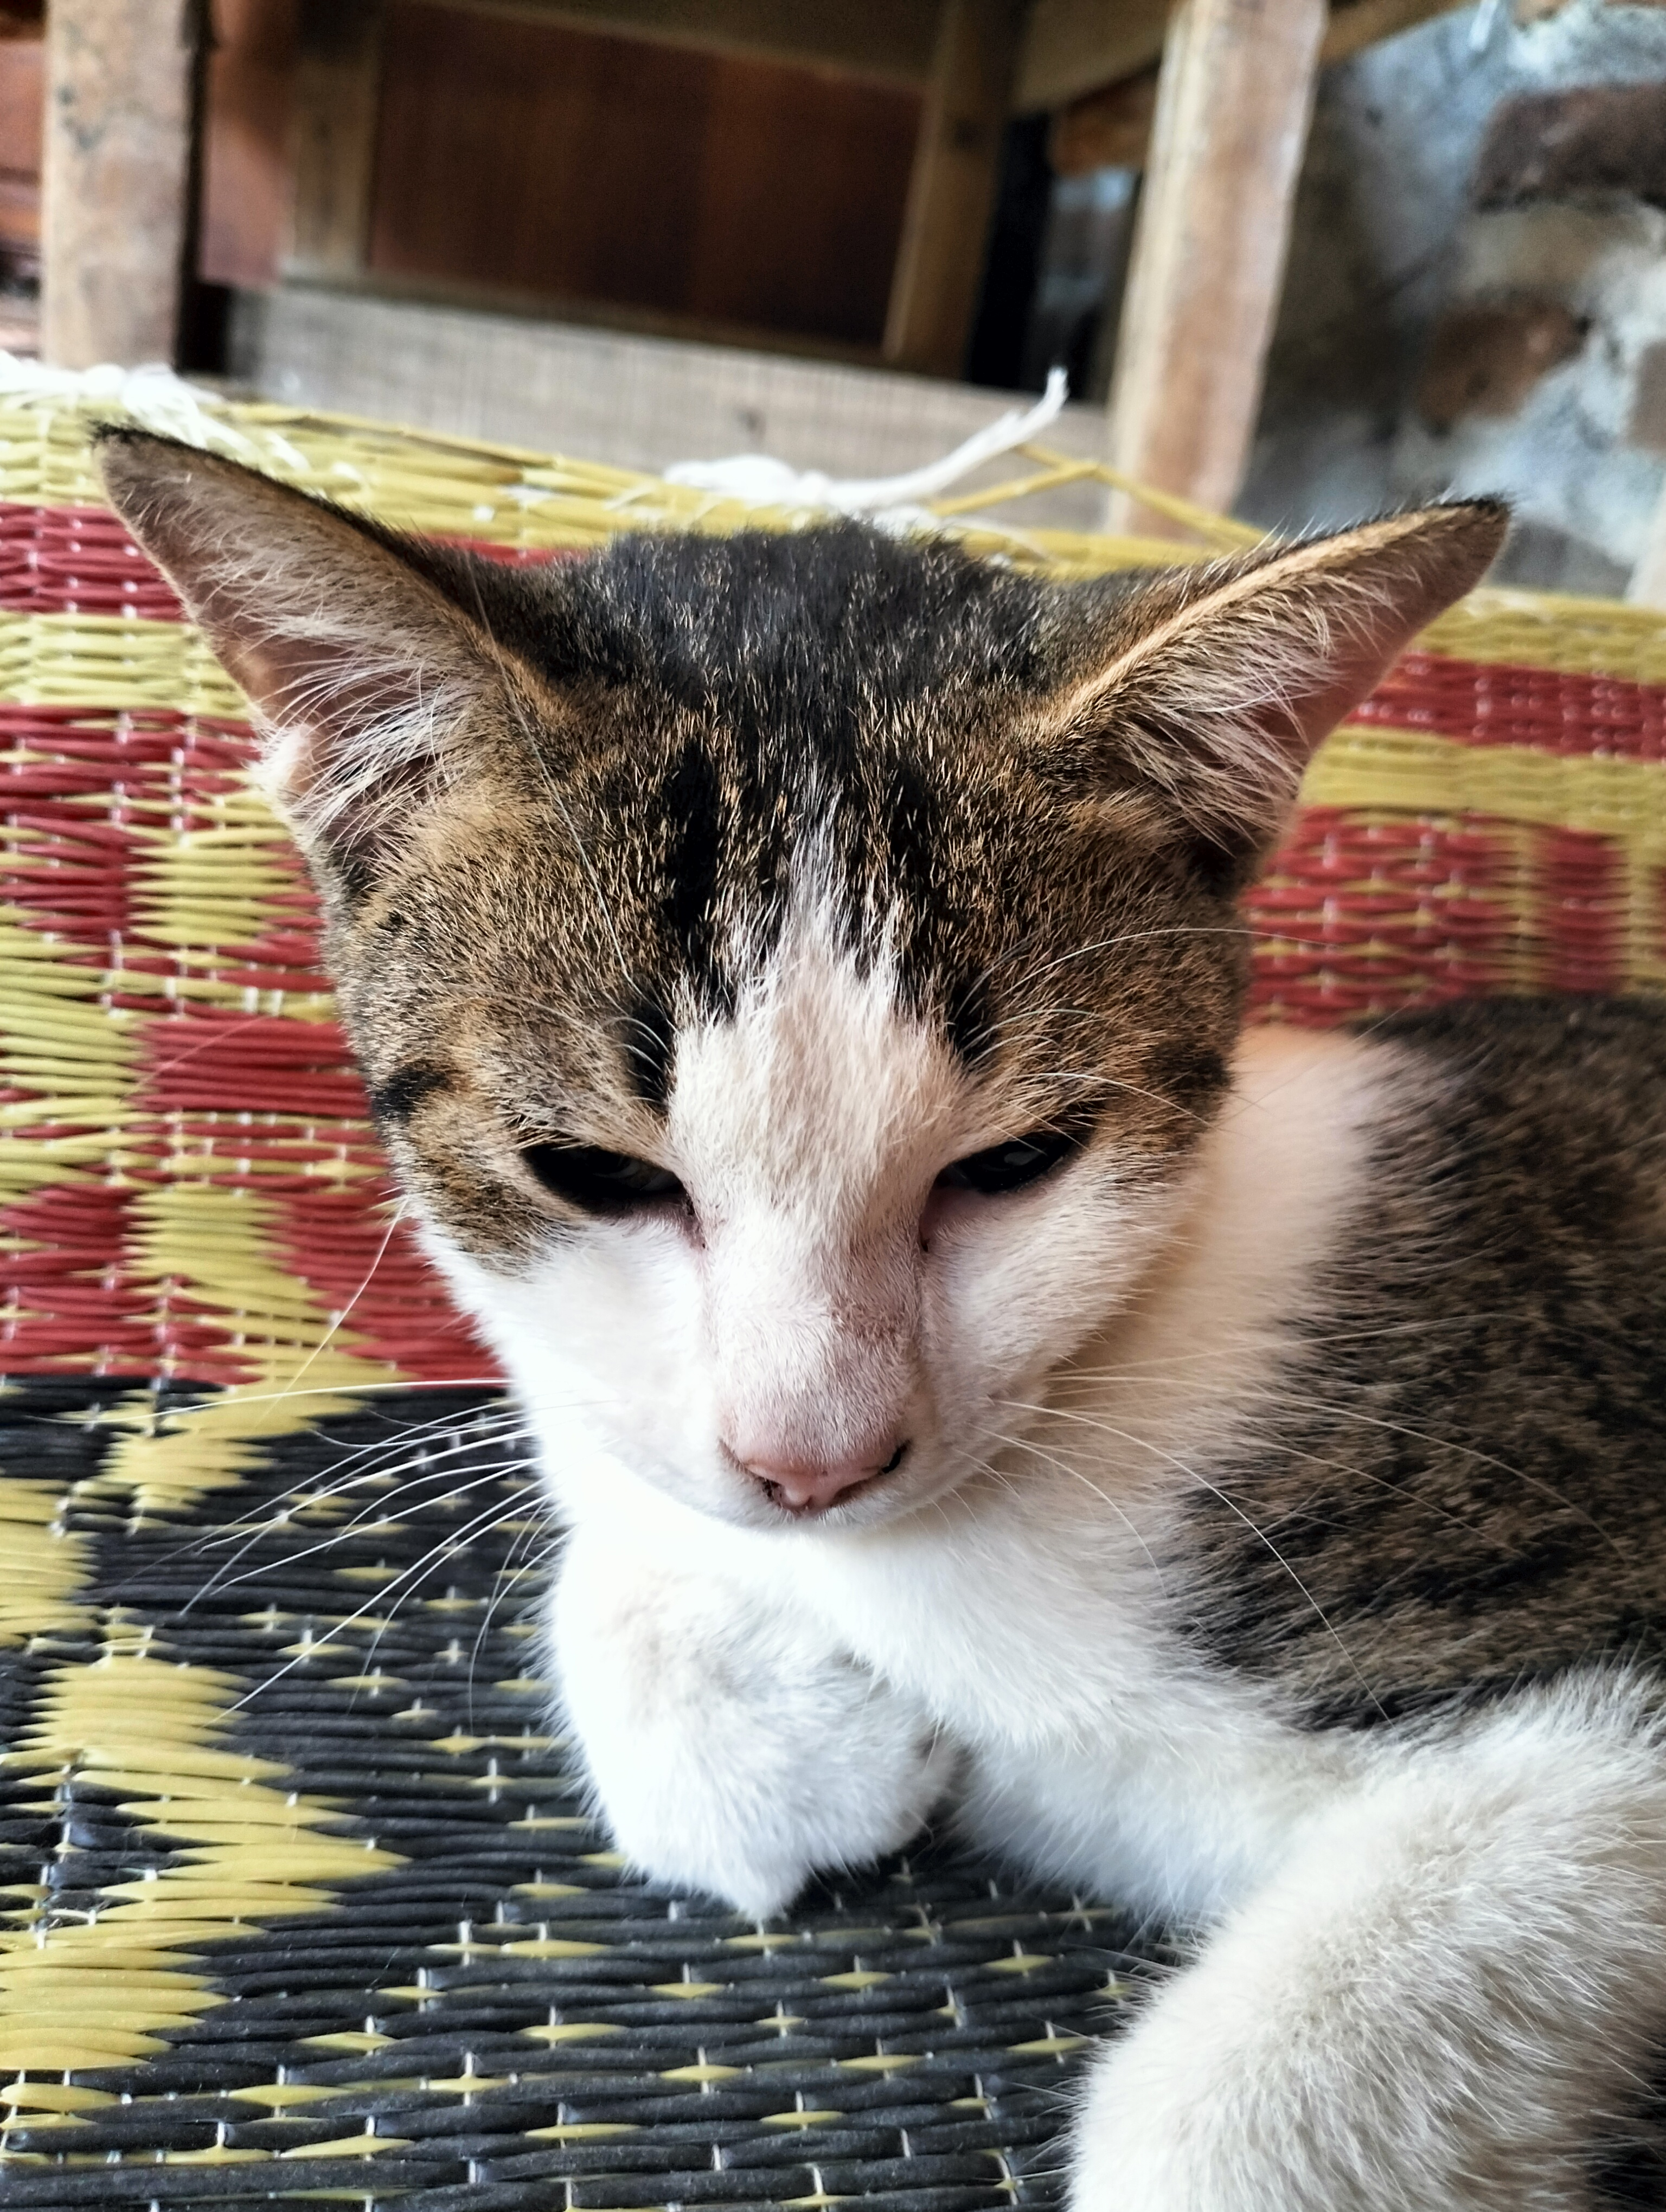miki: (65, 379, 1554, 1612)
